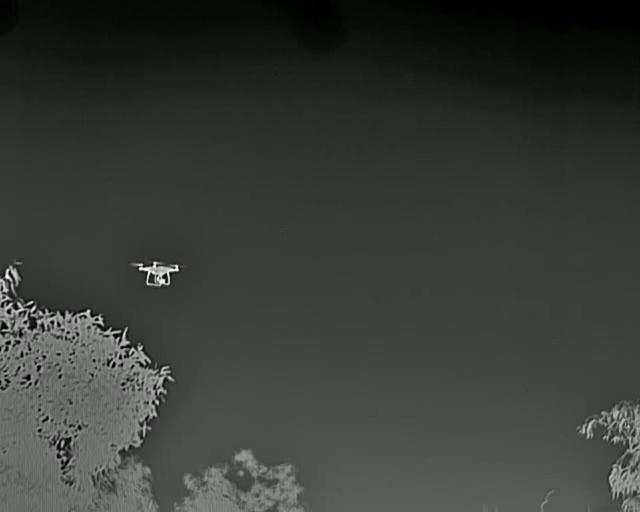DJI-Phantom: (128, 257, 187, 290)
